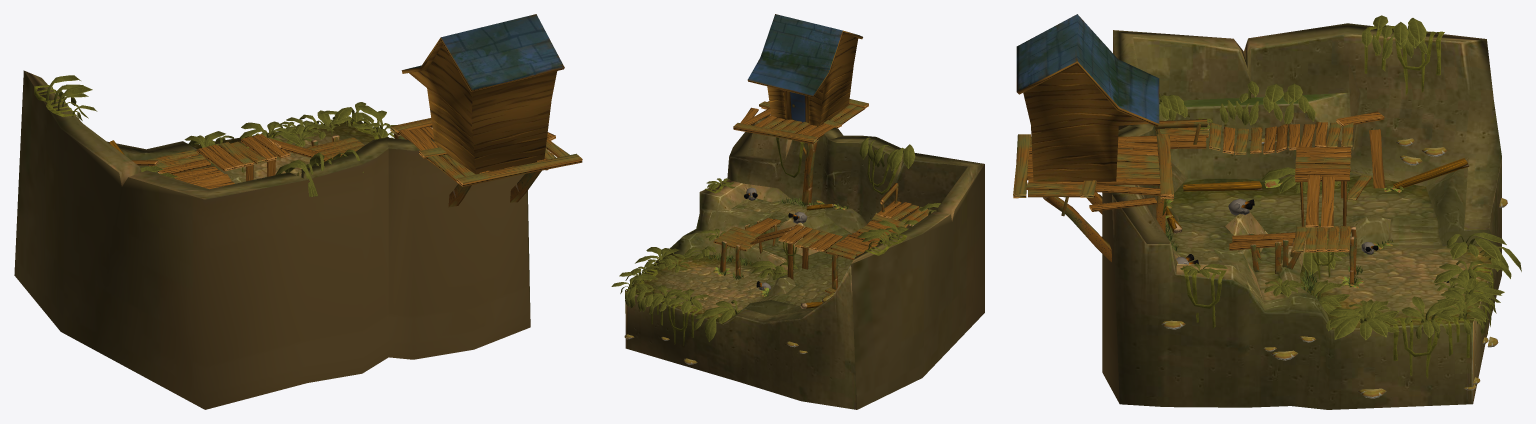
The model's file is GameStage.fbx.
The picture shows the model from 3 angles, left to right: view 1: azimuth 30°, elevation 25°; view 2: azimuth 150°, elevation 25°; view 3: azimuth 270°, elevation 25°; orthographic projection. The views are drawn at different scales.
Parts seen in each view (by area): view 1: Sphere003_Material #41_0; view 2: Sphere003_Material #41_0; view 3: Sphere003_Material #41_0.
Boxes of the visible parts, box(x1,y1,x2,y2) form: Sphere003_Material #41_0: box(14, 14, 582, 409); Sphere003_Material #41_0: box(611, 14, 984, 409); Sphere003_Material #41_0: box(1013, 14, 1521, 409).
Size of the model in its own units: 117 by 94.87 by 130.
